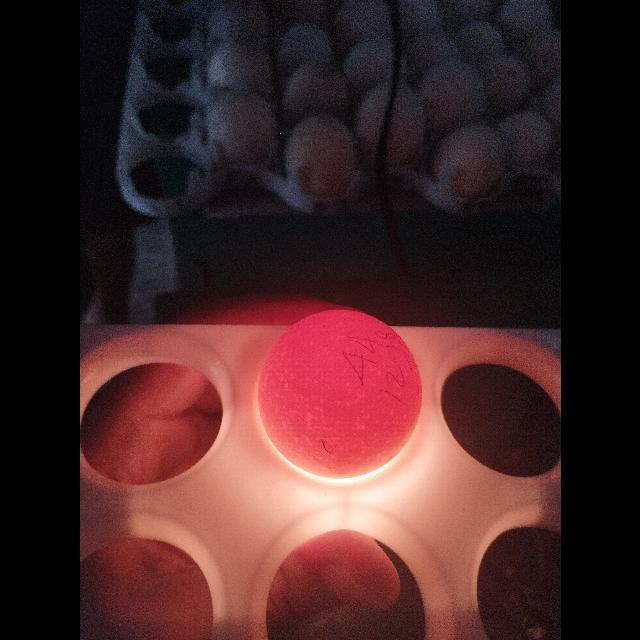Infertile: (255, 306, 425, 482)
